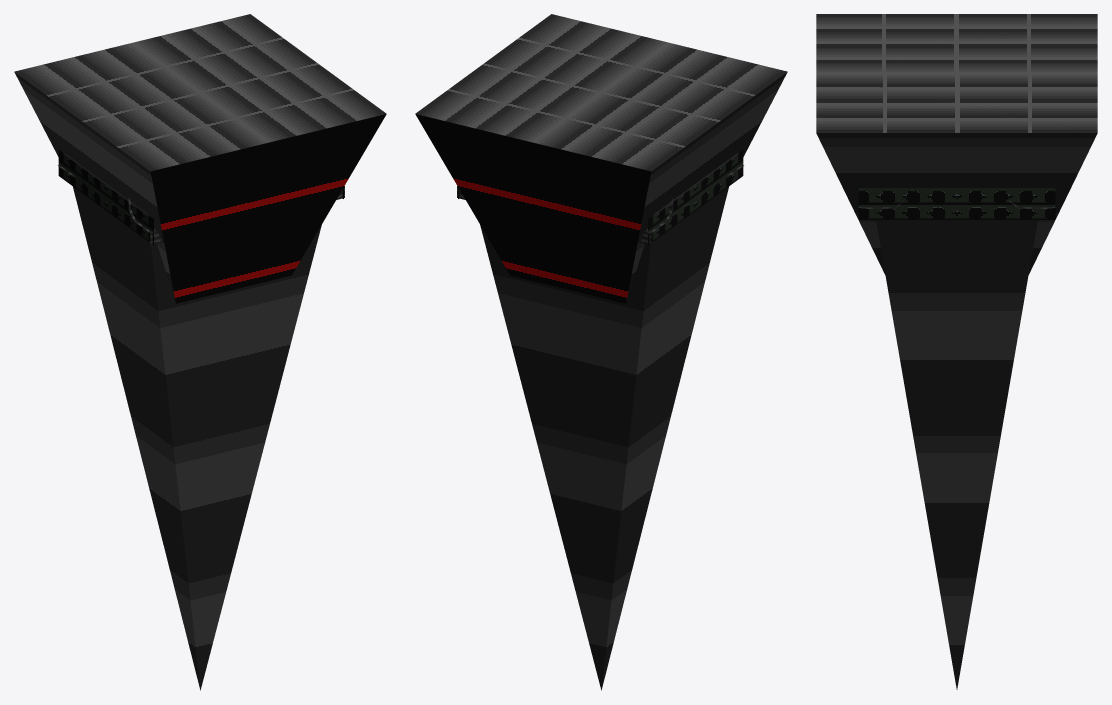
3 renders of one model, left to right at view 1: azimuth 30°, elevation 25°; view 2: azimuth 150°, elevation 25°; view 3: azimuth 270°, elevation 25°, orthographic. The views are drawn at different scales.
Visible parts, largest first — view 1: 3592kg_03_ta0; view 2: 3592kg_03_ta0; view 3: 3592kg_03_ta0.
Part boxes in pixels (bbox=[...]): 3592kg_03_ta0: bbox=[14, 14, 386, 690]; 3592kg_03_ta0: bbox=[415, 14, 787, 690]; 3592kg_03_ta0: bbox=[816, 14, 1097, 689].
Bounding box in the file's own units: 1.95 × 4.72 × 1.95.
3 materials, 3 textured.
